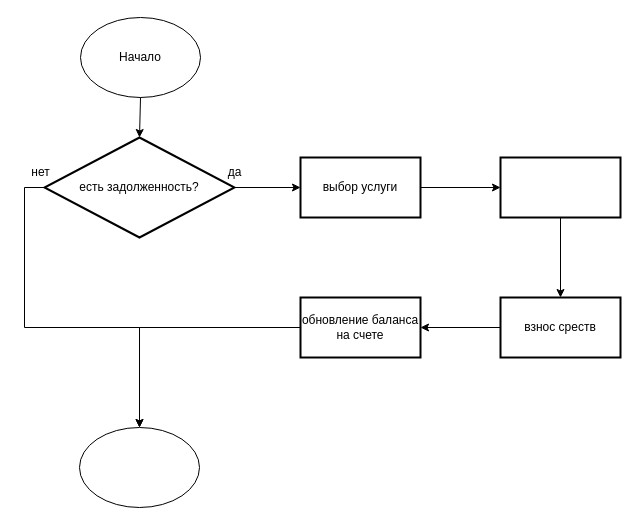
Some shapes in this 639 by 525 pixel diagram are drawn without their labels. The shapes that lost their labels are listed below. From the top down, each one's centre as x and y in pixels, then its label:
the point at 560,187: оплата счета
the point at 139,467: Конец
